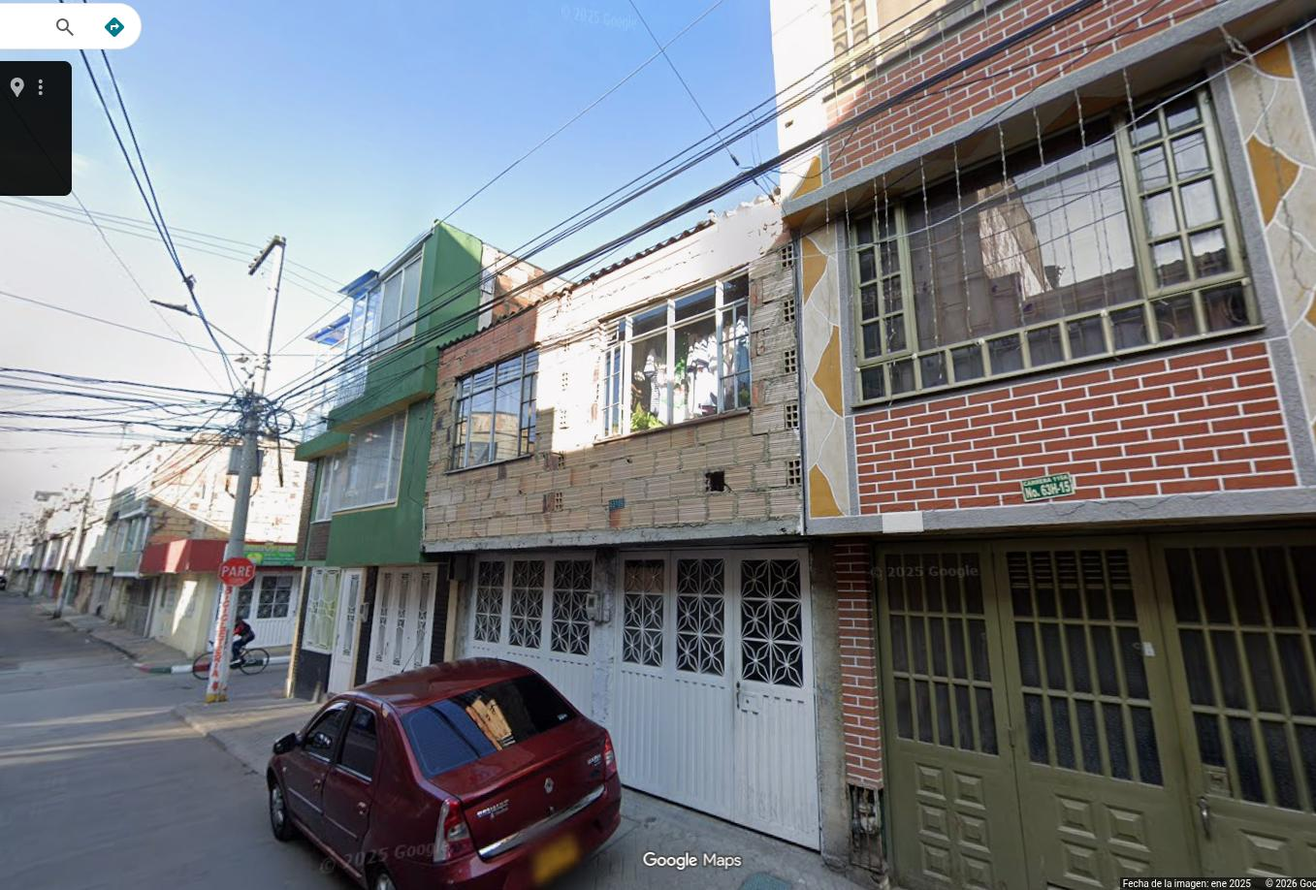casa: (772, 0, 1315, 889), (421, 195, 848, 850)
poste: (225, 237, 285, 557), (216, 582, 240, 647), (207, 652, 229, 702)
